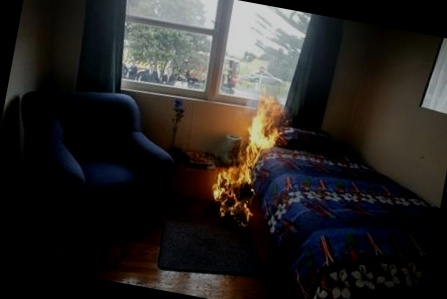fire: (198, 75, 302, 237)
